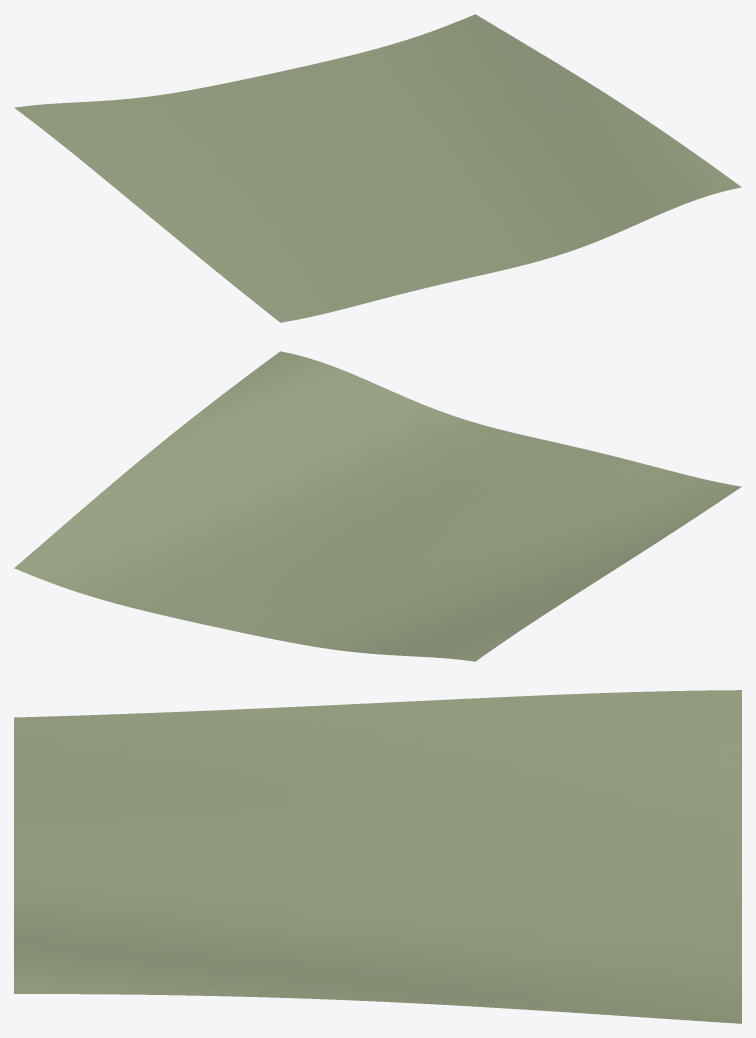
Rendered from desert-7-3.glb.
3 renders of one model, top to bottom at view 1: azimuth 30°, elevation 25°; view 2: azimuth 150°, elevation 25°; view 3: azimuth 270°, elevation 25°, orthographic. The views are drawn at different scales.
Visible parts, largest first — view 1: desert-7-3; view 2: desert-7-3; view 3: desert-7-3.
Boxes of the visible parts, box(x1,y1,x2,y2) form: desert-7-3: box(14, 14, 741, 322); desert-7-3: box(14, 351, 741, 661); desert-7-3: box(14, 690, 741, 1023).
Bounding box in the file's own units: 512 × 35.15 × 512.
